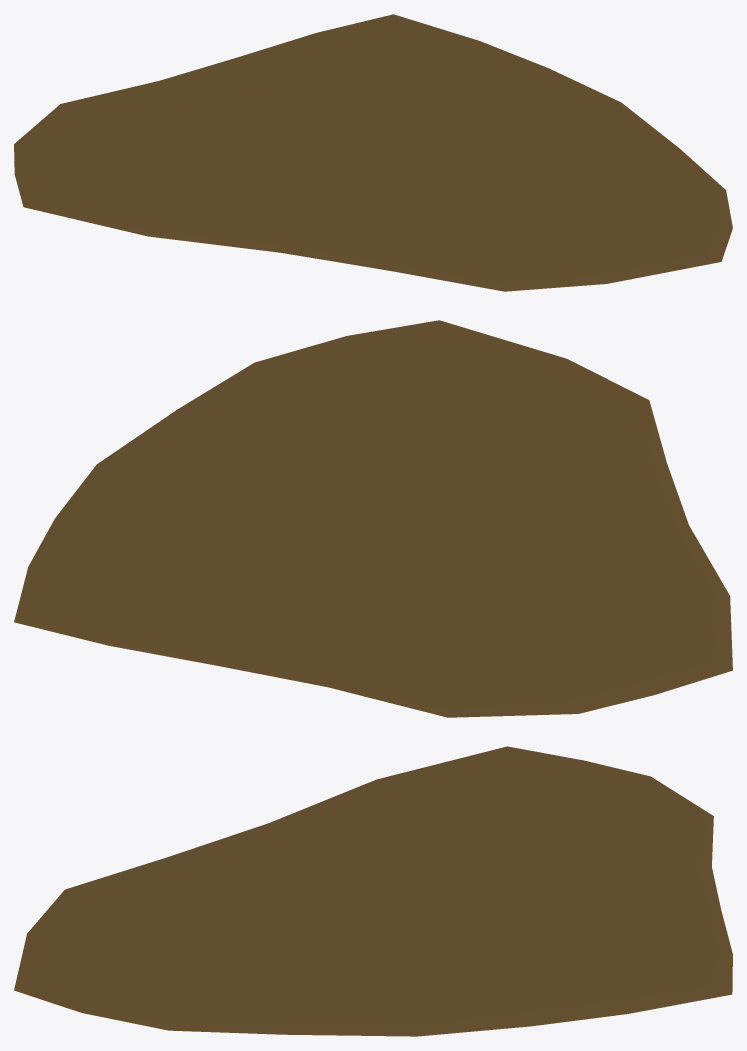
The model's file is Dirt_3.fbx.
The picture shows the model from 3 angles, top to bottom: view 1: azimuth 30°, elevation 25°; view 2: azimuth 150°, elevation 25°; view 3: azimuth 270°, elevation 25°; orthographic projection. The views are drawn at different scales.
Visible parts, largest first — view 1: Dirt3; view 2: Dirt3; view 3: Dirt3.
Boxes of the visible parts, x1,y1,x2,y2 form: Dirt3: (14,14,732,291); Dirt3: (14,320,732,717); Dirt3: (14,746,732,1036).
Size of the model in its own units: 2054 by 5.13 by 2151.
1 material, 1 textured.
